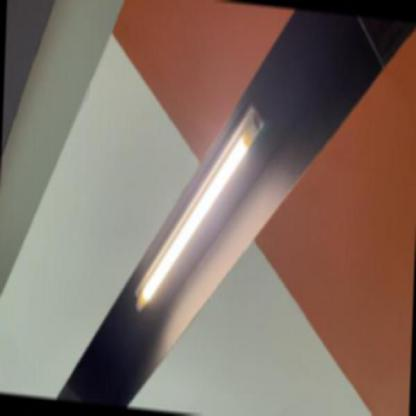light_on: (127, 83, 272, 334)
